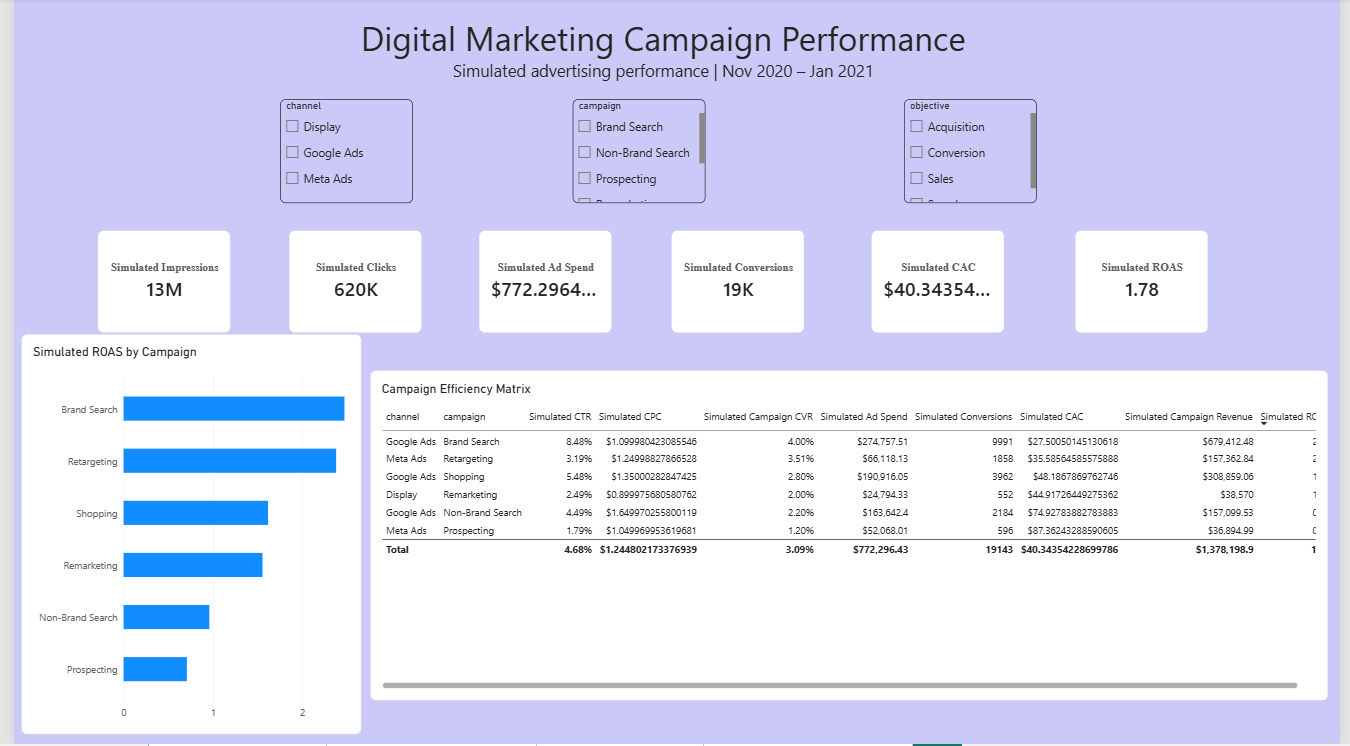

What the dashboard file says about the page in this screenshot:
{"tool":"powerbi","page":{"name":"Campaign Performance","canvas":[1920,1080],"ordinal":1},"visuals":[{"type":"textbox","box":[275.1,25.3,1330.1,121.2],"z":0},{"type":"cardVisual","fields":{"Data":["Campaign_Performance.Simulated Impressions"]},"box":[121.2,337.3,192.4,148.9],"z":0,"group":"g1"},{"type":"cardVisual","fields":{"Data":["Campaign_Performance.Simulated ROAS"]},"box":[1536.3,336.6,192.4,148.9],"z":1000,"group":"g1"},{"type":"clusteredBarChart","title":"Simulated ROAS by Campaign","fields":{"Category":["Campaign_Performance.campaign"],"Y":["Campaign_Performance.Simulated ROAS"]},"box":[10.9,486.8,492.2,579.1],"z":1000},{"type":"cardVisual","fields":{"Data":["Campaign_Performance.Simulated Clicks"]},"box":[398,336.6,192.4,148.9],"z":2000,"group":"g1"},{"type":"tableEx","title":"Campaign Efficiency Matrix","fields":{"Values":["Campaign_Performance.channel","Campaign_Performance.campaign","Campaign_Performance.Simulated CTR","Campaign_Performance.Simulated CPC","Campaign_Performance.Simulated Campaign CVR","Campaign_Performance.Simulated Ad Spend","Campaign_Performance.Simulated Conversions","Campaign_Performance.Simulated CAC","Campaign_Performance.Simulated Campaign Revenue","Campaign_Performance.Simulated ROAS"]},"box":[515.8,539.3,1386.2,477.8],"z":2000},{"type":"slicer","fields":{"Values":["Campaign_Performance.channel"]},"box":[385.5,146.6,192,150],"z":3000},{"type":"cardVisual","fields":{"Data":["Campaign_Performance.Simulated Ad Spend"]},"box":[673.1,336.6,192.4,148.9],"z":3000,"group":"g1"},{"type":"slicer","fields":{"Values":["Campaign_Performance.campaign"]},"box":[808.9,146.6,192,150],"z":4000},{"type":"cardVisual","fields":{"Data":["Campaign_Performance.Simulated Conversions"]},"box":[951.8,336.6,192.4,148.9],"z":4000,"group":"g1"},{"type":"slicer","fields":{"Values":["Campaign_Performance.objective"]},"box":[1288.5,146.6,192,150],"z":5000},{"type":"cardVisual","fields":{"Data":["Campaign_Performance.Simulated CAC"]},"box":[1241.3,336.6,192.4,148.9],"z":5000,"group":"g1"},{"type":"group","id":"g1","title":"Group 1","box":[121.2,336.6,1607,150.2],"z":6000}]}

Visuals, with their boxes in screenshot pixels (x1, y1, x2, y2), scaled from the page's 1920x1080 canvas onto the 1350x746 screenshot:
textbox: 193 17 1129 101
cardVisual - Campaign_Performance.Simulated Impressions: 85 233 221 336
cardVisual - Campaign_Performance.Simulated ROAS: 1080 233 1215 335
"Simulated ROAS by Campaign" clusteredBarChart: 8 336 354 736
cardVisual - Campaign_Performance.Simulated Clicks: 280 233 415 335
"Campaign Efficiency Matrix" tableEx: 363 373 1337 703
slicer - Campaign_Performance.channel: 271 101 406 205
cardVisual - Campaign_Performance.Simulated Ad Spend: 473 233 609 335
slicer - Campaign_Performance.campaign: 569 101 704 205
cardVisual - Campaign_Performance.Simulated Conversions: 669 233 805 335
slicer - Campaign_Performance.objective: 906 101 1041 205
cardVisual - Campaign_Performance.Simulated CAC: 873 233 1008 335
"Group 1" group: 85 233 1215 336
